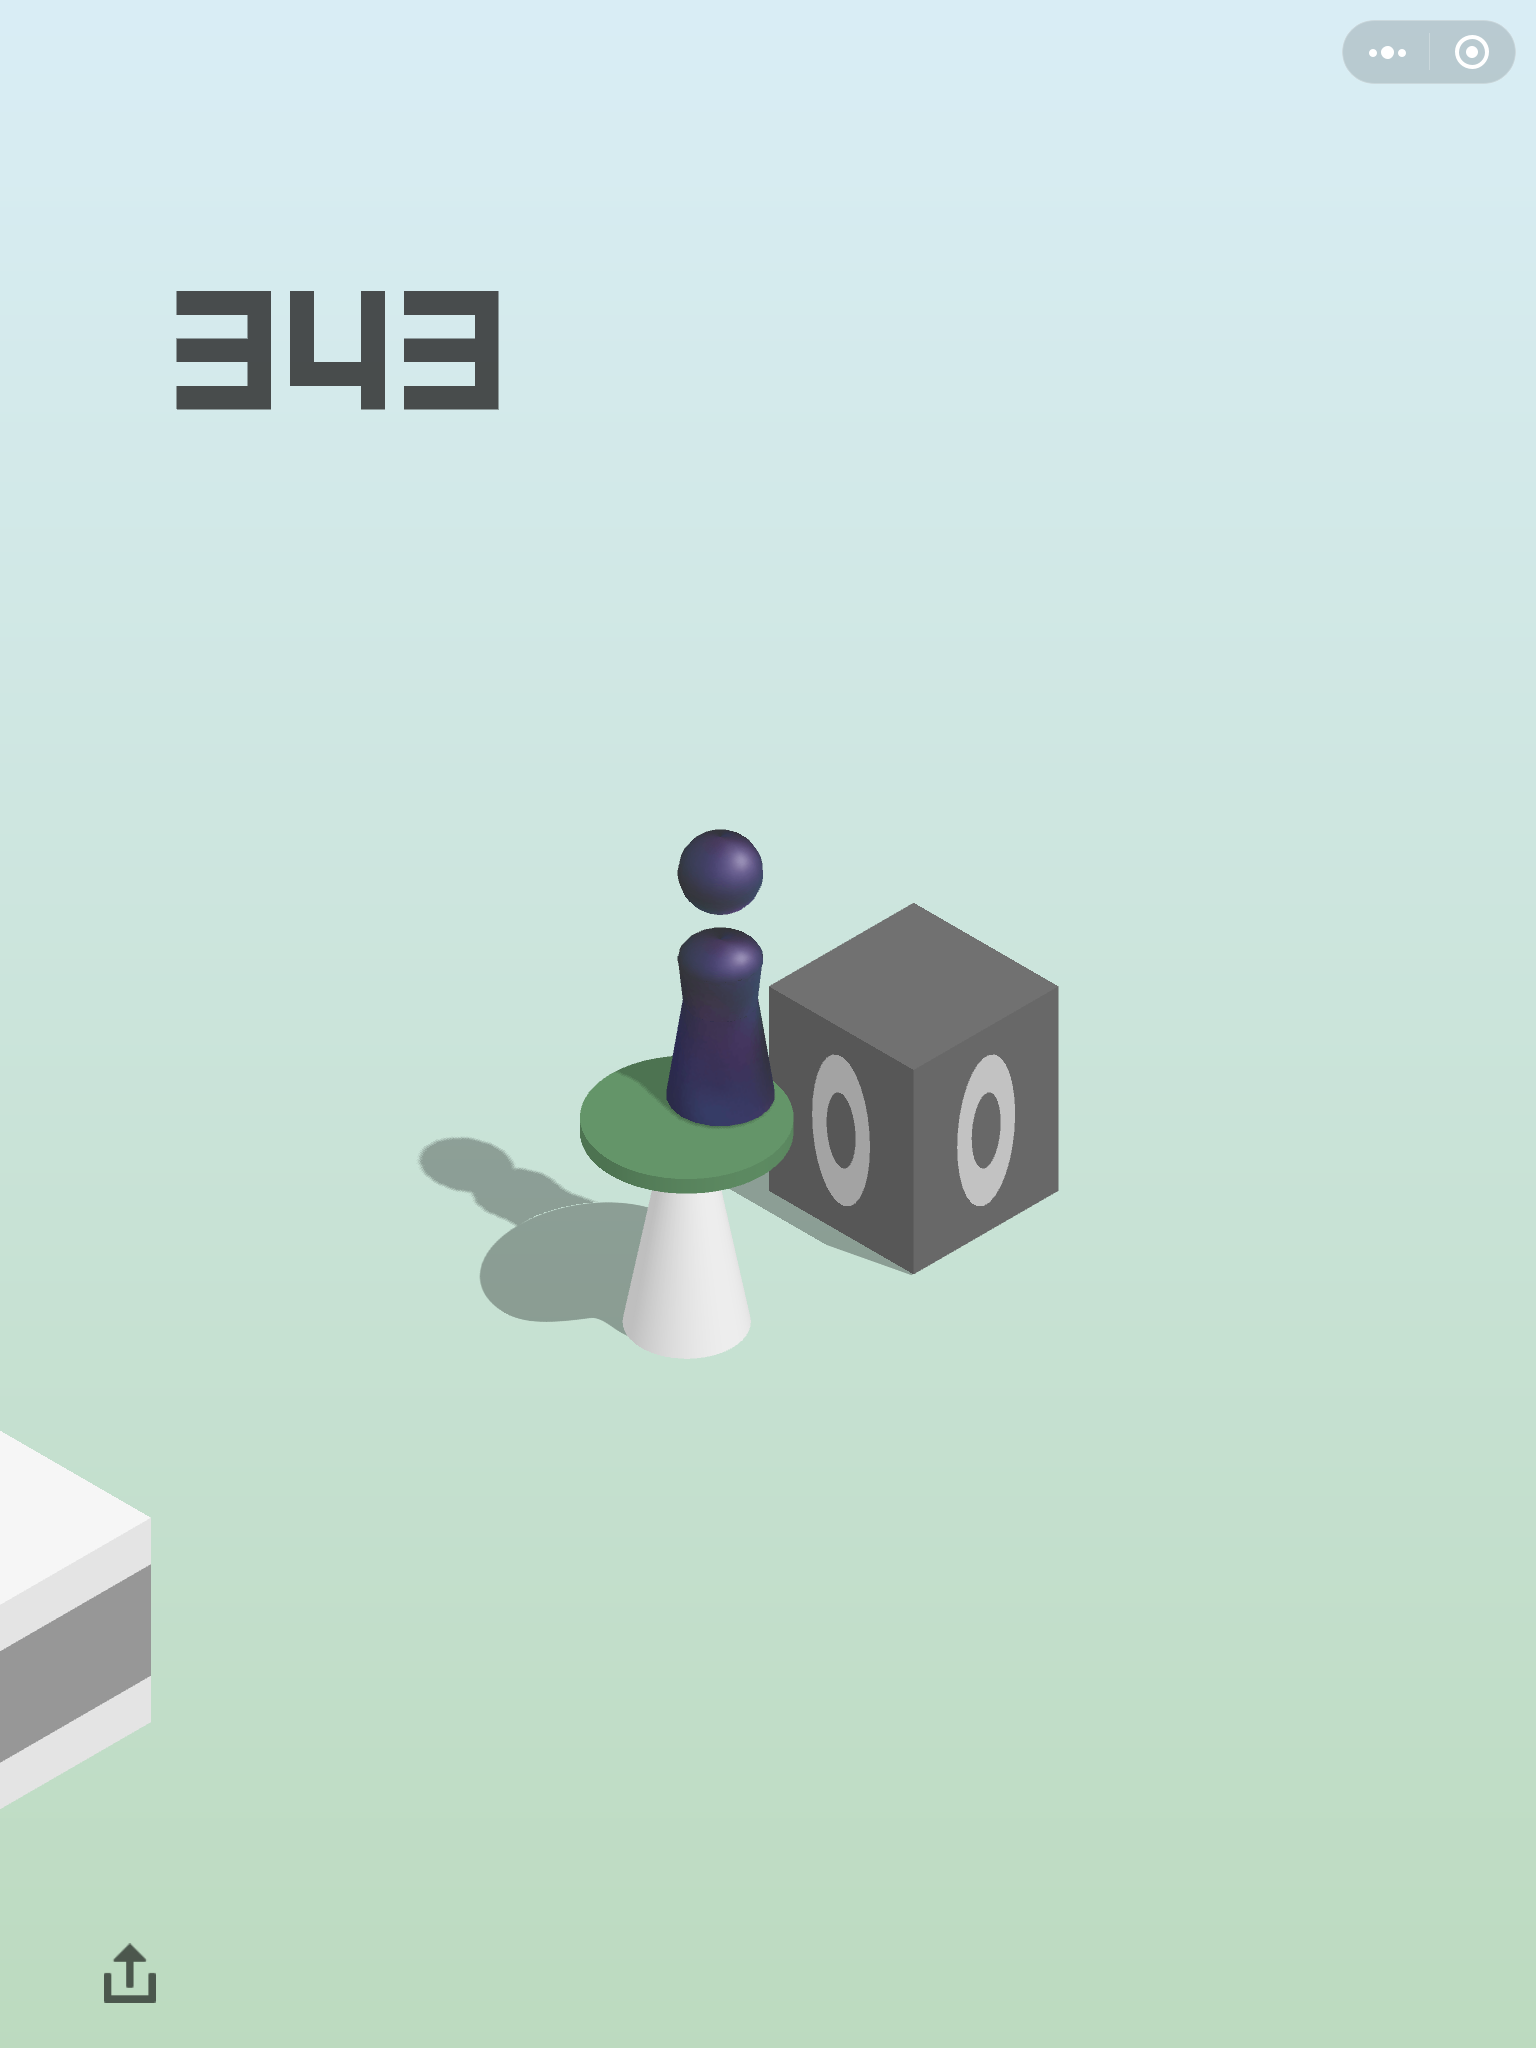c: (578, 1055, 795, 1363)
f: (766, 901, 1062, 1276), (2, 1422, 152, 1821)
r: (665, 827, 778, 1127)
